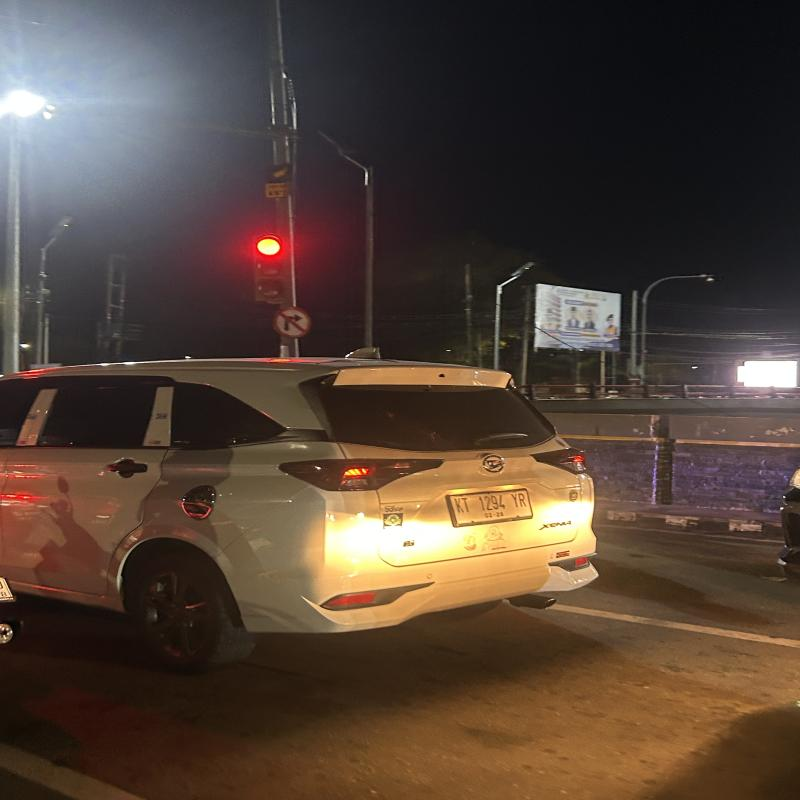license plate on a car: (444, 492, 538, 525)
